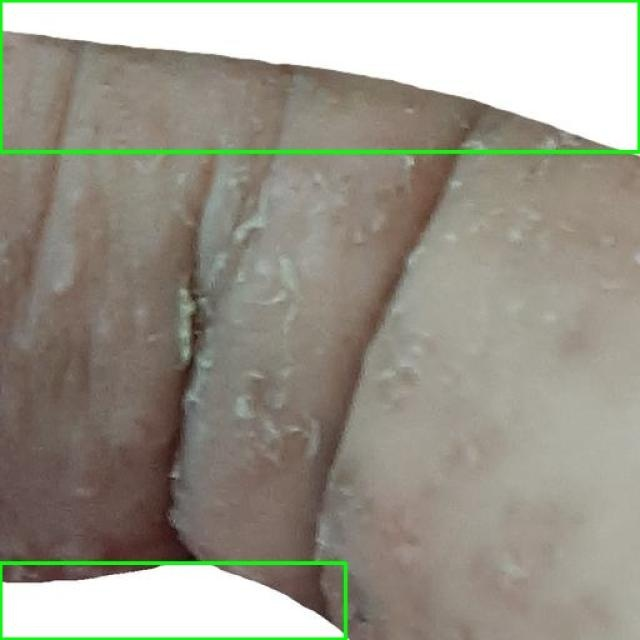Scabies: (0, 0, 639, 152), (0, 562, 345, 639)
